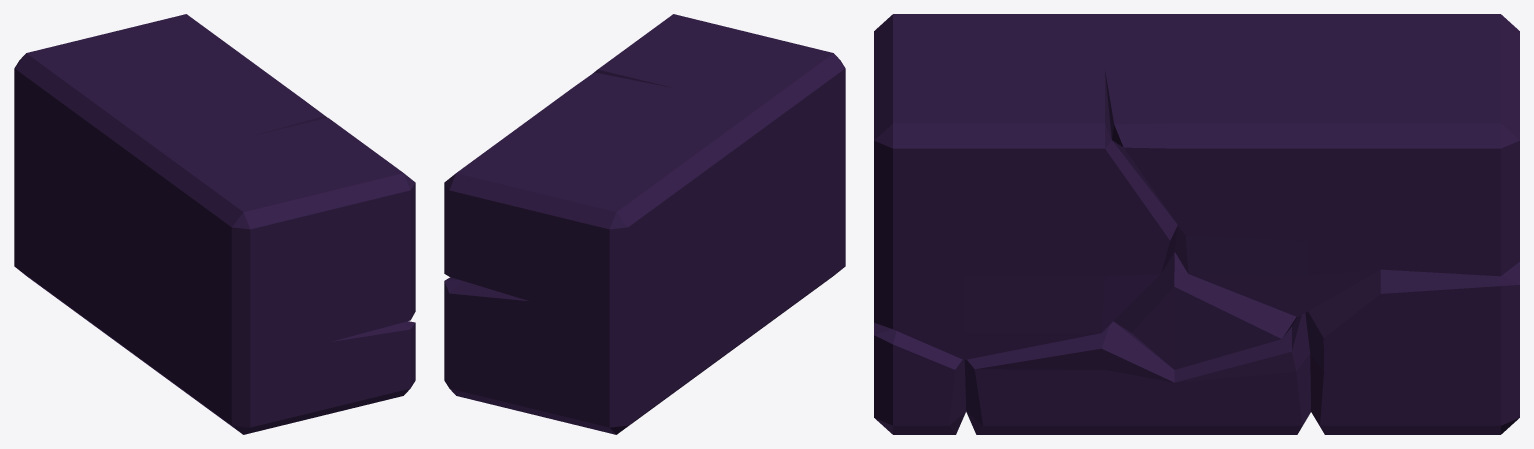
File: brick3.glb
3 views of the same model, side by side, from view 1: azimuth 30°, elevation 25°; view 2: azimuth 150°, elevation 25°; view 3: azimuth 270°, elevation 25° (orthographic). The views are drawn at different scales.
Visible parts, largest first — view 1: BrickCrack3; view 2: BrickCrack3; view 3: BrickCrack3.
Boxes of the visible parts, x1,y1,x2,y2 form: BrickCrack3: (14, 14, 415, 434); BrickCrack3: (444, 14, 845, 434); BrickCrack3: (874, 14, 1519, 434).
Size of the model in its own units: 1.75 by 2 by 3.76.
